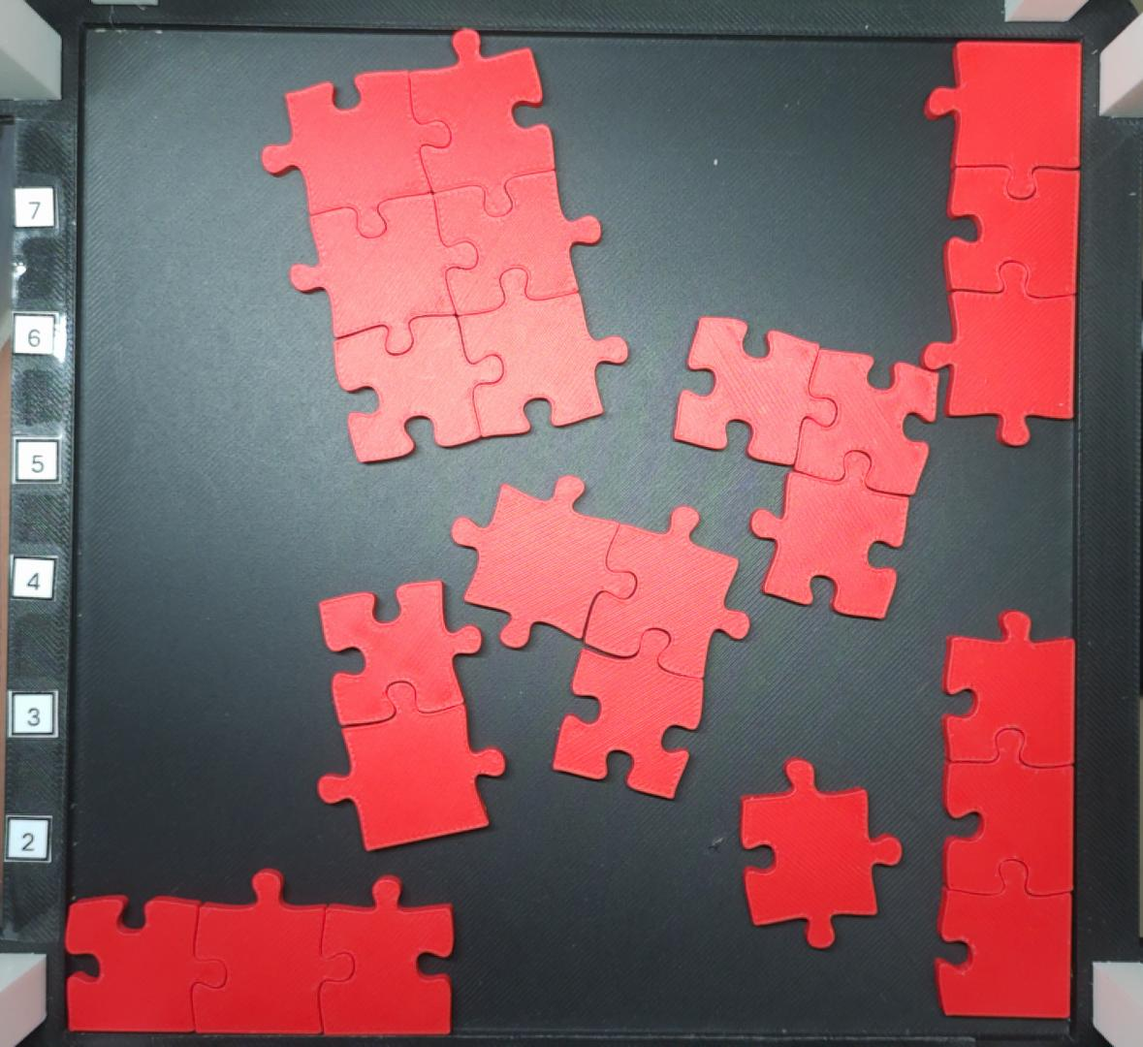p_1: (736, 754, 905, 951)
p_2: (315, 578, 509, 854)
p_3: (448, 472, 752, 804), (671, 314, 939, 621), (919, 36, 1085, 449), (62, 865, 457, 1037), (933, 607, 1077, 1022)
p_m: (260, 26, 630, 466)
